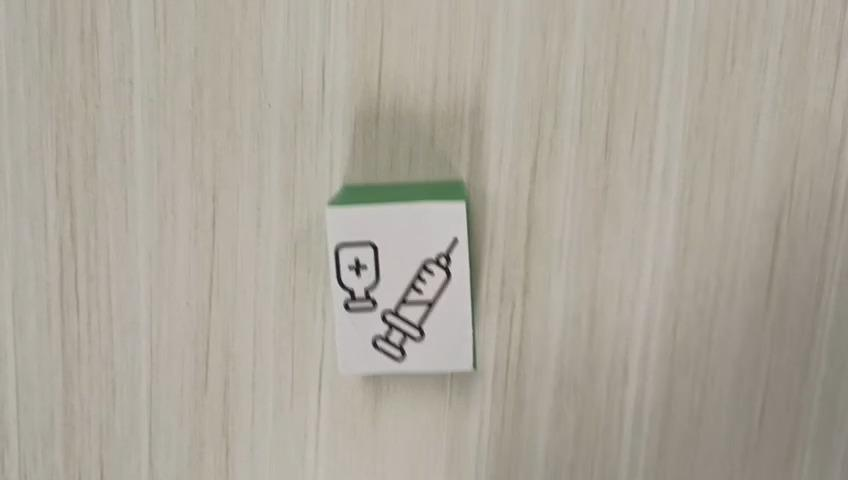antiseptic cream: (324, 177, 476, 377)
